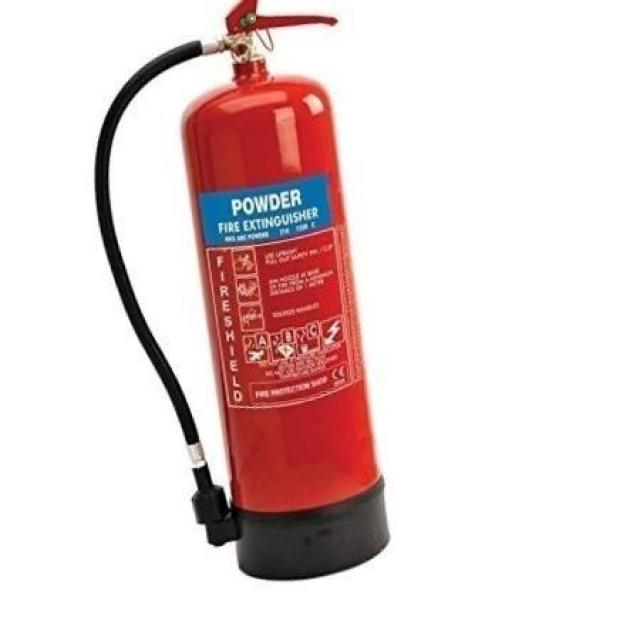fire_extinguisher: (88, 0, 396, 586)
